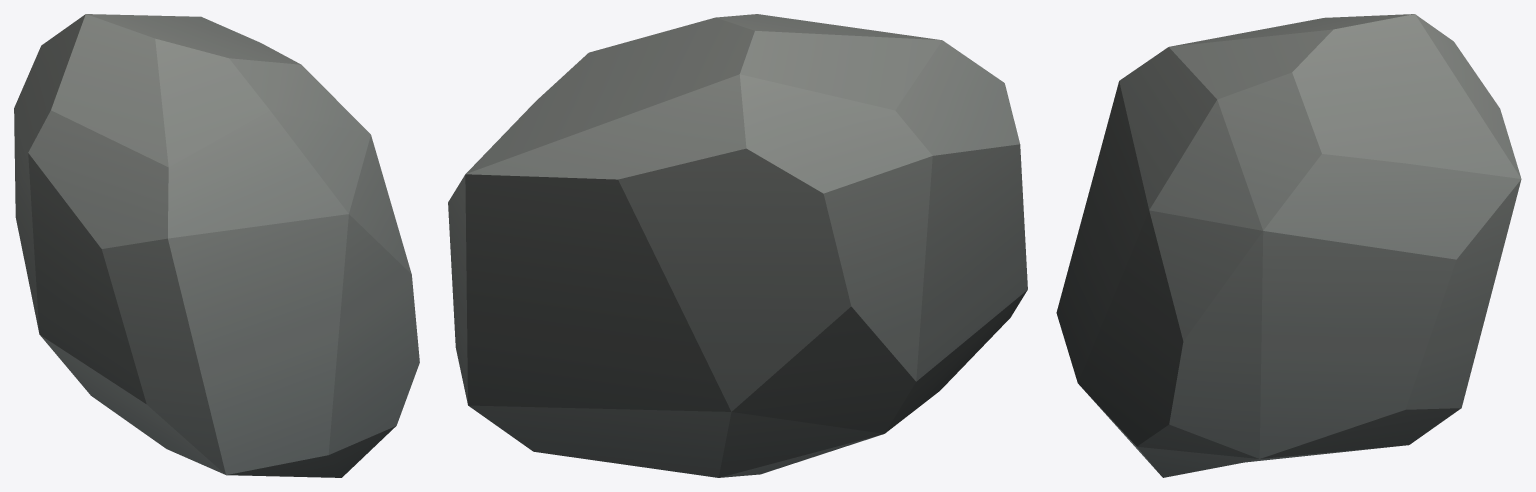
Rendered from SM_Rocks_000.fbx.
3 renders of one model, left to right at view 1: azimuth 30°, elevation 25°; view 2: azimuth 150°, elevation 25°; view 3: azimuth 270°, elevation 25°, orthographic. The views are drawn at different scales.
Parts seen in each view (by area): view 1: SM_Rocks_000; view 2: SM_Rocks_000; view 3: SM_Rocks_000.
Boxes of the visible parts, x1,y1,x2,y2 form: SM_Rocks_000: [14, 14, 419, 477]; SM_Rocks_000: [448, 14, 1027, 477]; SM_Rocks_000: [1056, 14, 1521, 477].
Bounding box in the file's own units: 0.6718 × 0.7554 × 0.7938.
